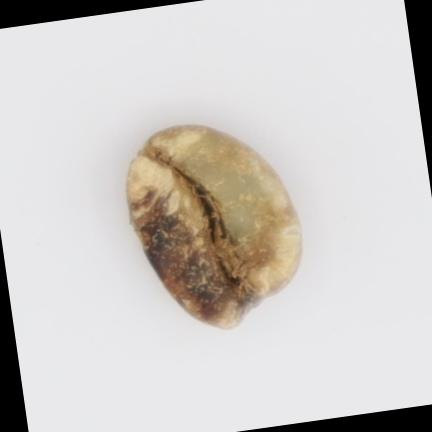partial-black: (126, 124, 300, 327)
